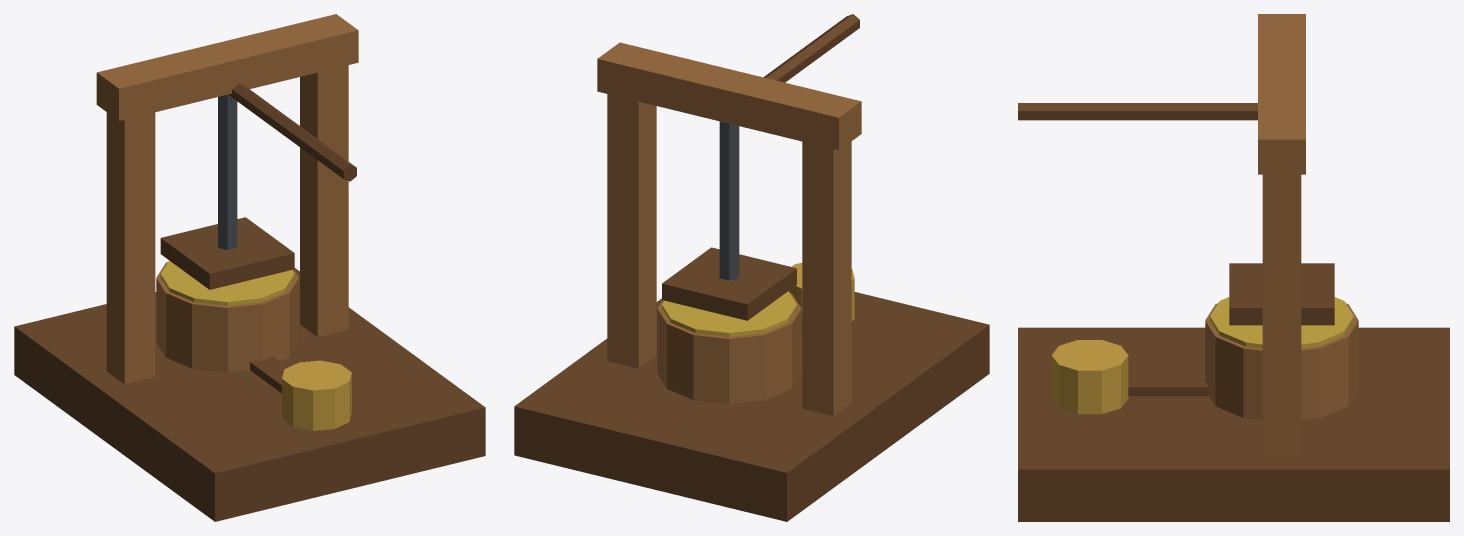
The model's file is OilPress@Run.fbx.
The picture shows the model from 3 angles, left to right: view 1: azimuth 30°, elevation 25°; view 2: azimuth 150°, elevation 25°; view 3: azimuth 270°, elevation 25°; orthographic projection. The views are drawn at different scales.
Parts seen in each view (by area): view 1: OilPress_Body, OilPress_Lever; view 2: OilPress_Body, OilPress_Lever; view 3: OilPress_Body, OilPress_Lever.
Boxes of the visible parts, x1=… form: OilPress_Body: x1=14, y1=14, x2=485, y2=521; OilPress_Lever: x1=160, y1=84, x2=356, y2=289; OilPress_Body: x1=514, y1=42, x2=989, y2=521; OilPress_Lever: x1=662, y1=14, x2=859, y2=320; OilPress_Body: x1=1018, y1=14, x2=1449, y2=521; OilPress_Lever: x1=1018, y1=103, x2=1334, y2=325.
Size of the model in its own units: 0.7 by 0.86 by 0.9.
